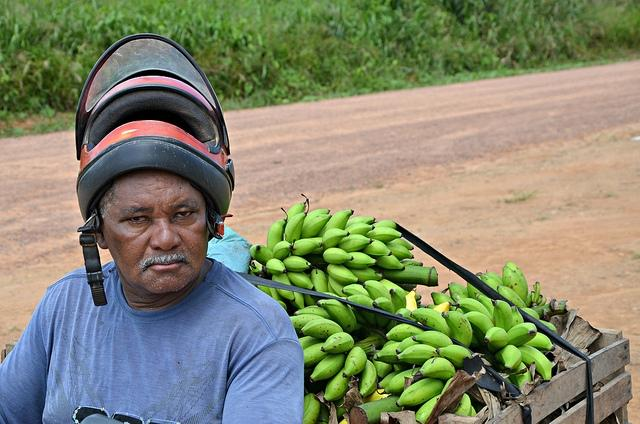banana: (402, 357, 456, 411), (316, 299, 356, 334), (396, 378, 444, 407), (516, 344, 552, 382), (384, 366, 432, 394), (410, 308, 452, 338), (284, 198, 310, 244), (309, 352, 347, 383), (323, 364, 352, 404), (442, 310, 472, 348), (396, 344, 445, 365), (464, 312, 494, 346), (436, 344, 472, 372), (300, 318, 344, 340), (448, 298, 492, 320), (502, 266, 527, 304), (267, 207, 288, 251), (284, 194, 307, 234), (417, 302, 452, 326), (342, 346, 368, 378), (300, 214, 332, 240), (505, 262, 528, 298), (506, 322, 537, 348), (357, 360, 378, 398), (412, 330, 453, 349), (386, 323, 426, 342), (415, 394, 441, 423), (327, 263, 361, 285), (320, 332, 354, 354), (491, 299, 513, 333), (495, 345, 522, 372), (304, 342, 332, 368), (336, 234, 374, 253), (497, 284, 527, 308), (376, 342, 408, 364), (372, 350, 394, 382), (290, 314, 326, 333), (377, 278, 408, 300), (372, 297, 394, 328), (522, 332, 556, 352), (325, 210, 354, 233), (322, 228, 351, 251), (362, 280, 392, 302), (484, 326, 509, 352), (365, 226, 403, 243), (358, 239, 392, 258), (346, 267, 386, 283), (290, 238, 323, 256), (475, 272, 502, 293), (293, 307, 333, 321), (384, 242, 414, 260), (286, 271, 314, 290), (323, 247, 354, 264), (371, 255, 405, 270), (282, 255, 312, 272), (250, 245, 274, 266), (341, 284, 372, 300), (451, 394, 472, 417), (344, 216, 376, 230), (344, 222, 376, 236), (389, 288, 406, 314), (310, 268, 328, 292), (467, 275, 484, 300), (304, 208, 330, 224), (478, 295, 494, 320), (298, 336, 326, 350), (266, 258, 286, 276), (448, 284, 470, 300), (510, 305, 524, 329), (430, 292, 456, 304), (485, 269, 503, 286), (389, 238, 414, 250), (289, 292, 305, 310), (520, 308, 540, 321), (469, 329, 482, 348), (371, 220, 398, 229), (539, 320, 557, 333), (382, 340, 399, 349), (474, 292, 489, 301), (306, 273, 310, 278)
